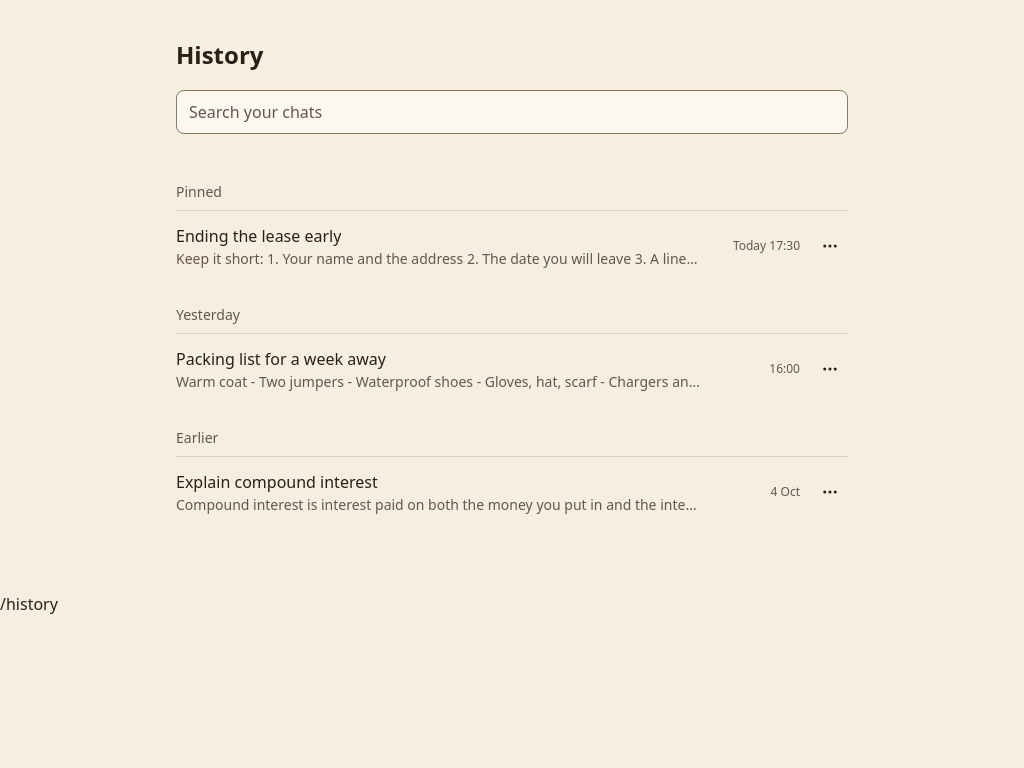
Test: History row actions › rename: Enter saves the new name
Click the button named "More for Packing list for a week away": coordinates (830, 369) top-left (812, 351), bottom-right (848, 387)
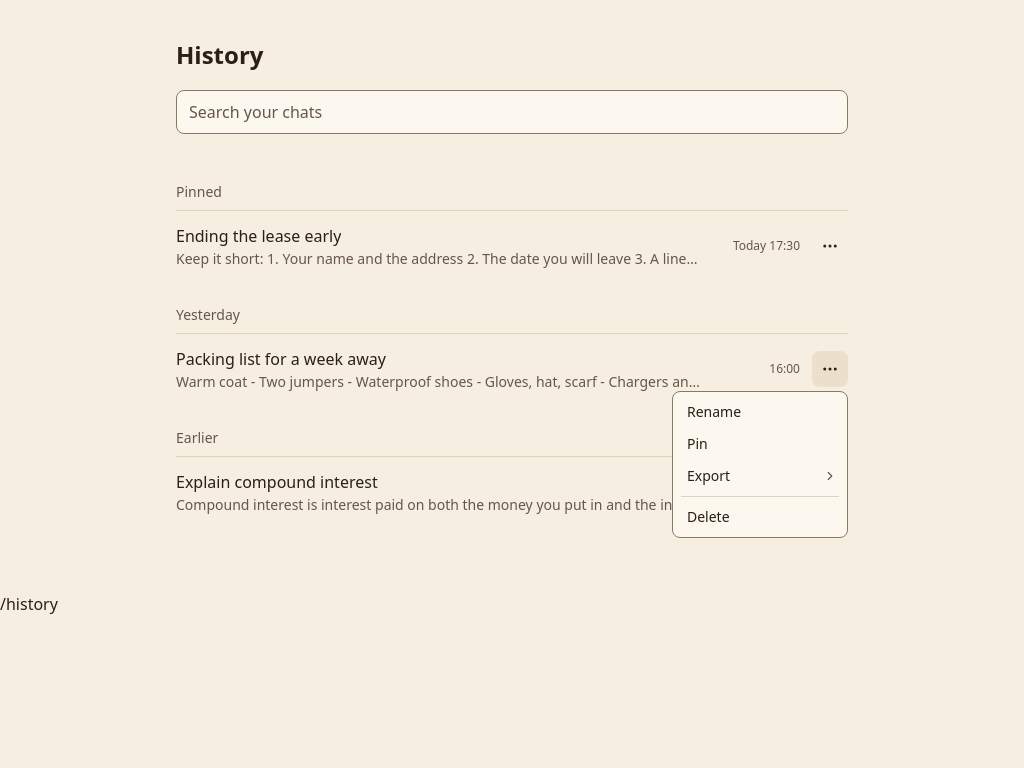
Click the menu item "Rename": coordinates (714, 412) top-left (687, 402), bottom-right (741, 421)
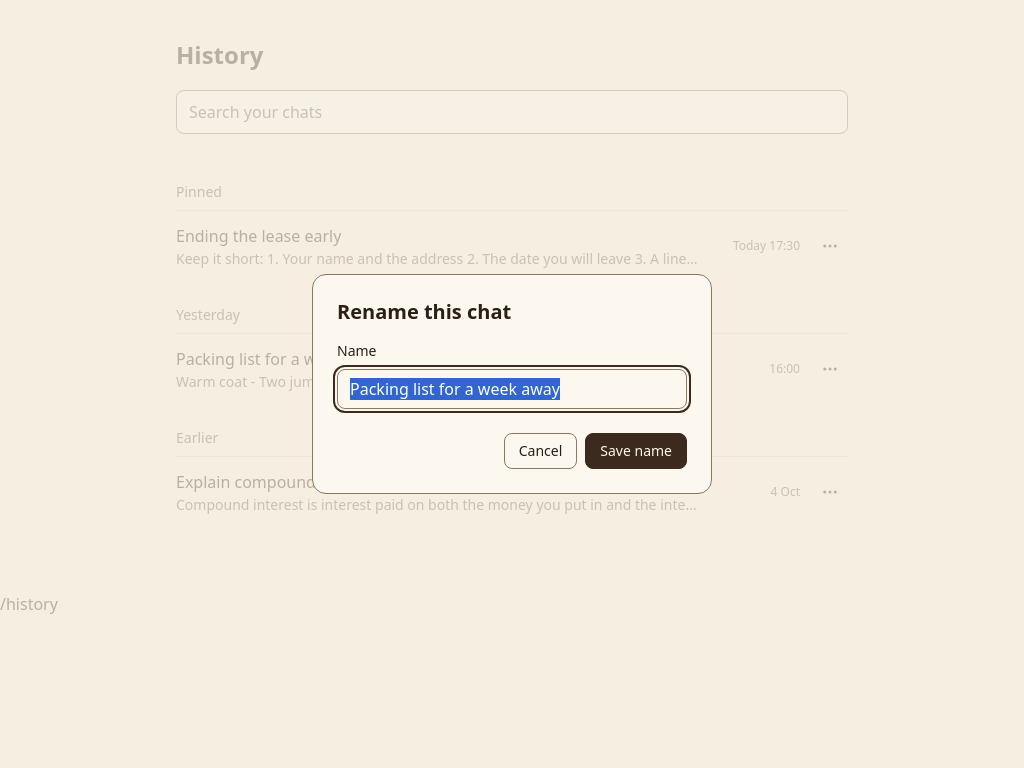
Now the field labelled "Name" holds "Packing list for a week away"
Replace the text in the field labelled "Name" with "Cold city packing": coordinates (512, 389) top-left (337, 369), bottom-right (687, 409)
Then press Enter
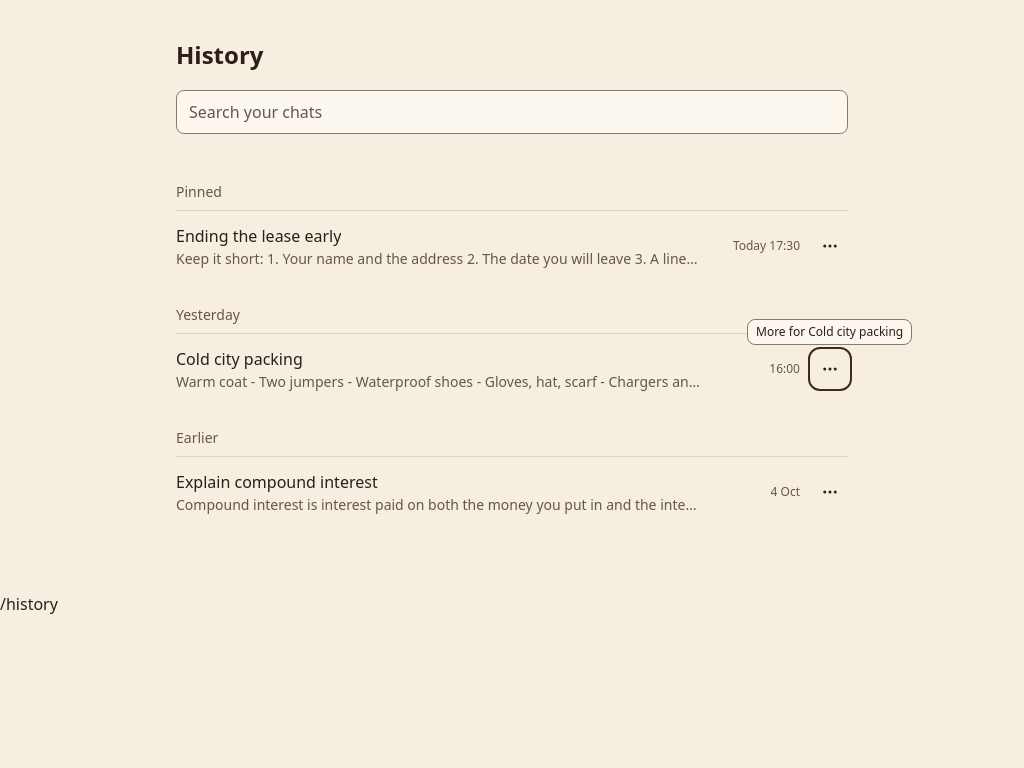
Now the dialog is gone
Now the link "Cold city packing" is shown, box top-left (176, 346), bottom-right (303, 372)
